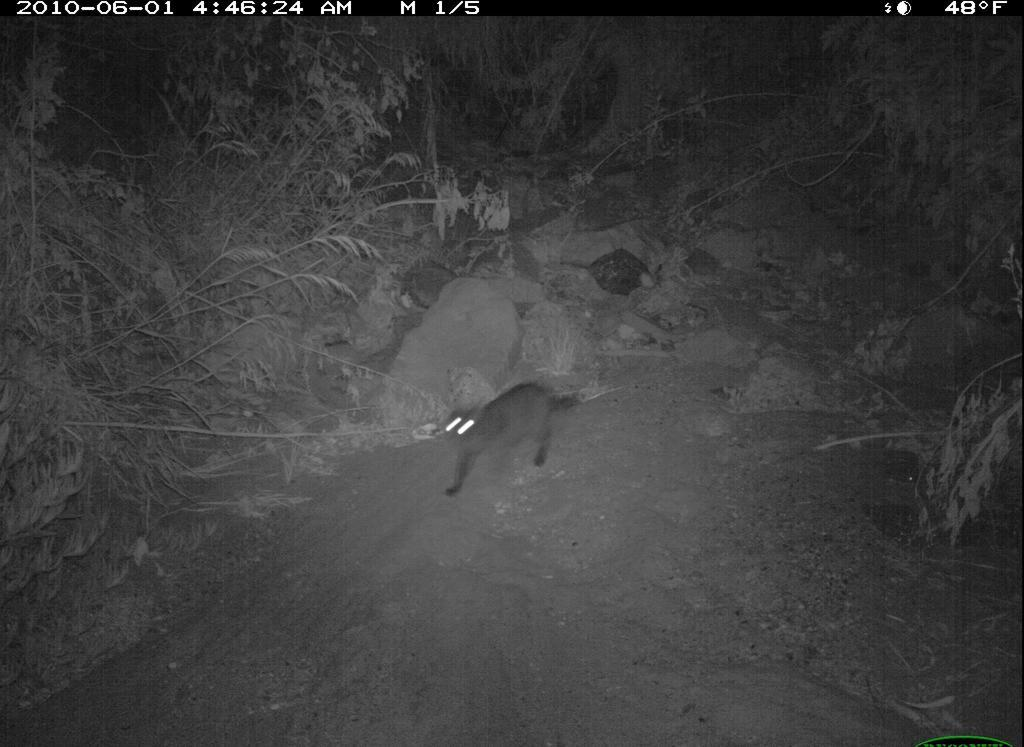cat: (428, 376, 598, 509)
